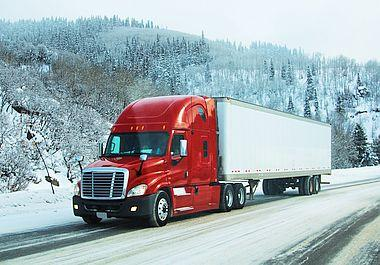truck: (72, 94, 330, 228)
